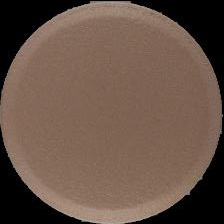67046-483: (0, 0, 224, 224)
